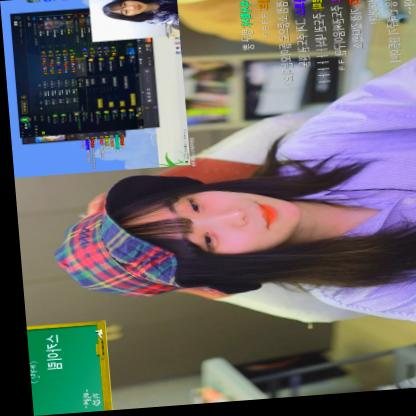donation: (0, 0, 197, 181)
streamer: (37, 51, 416, 352)
